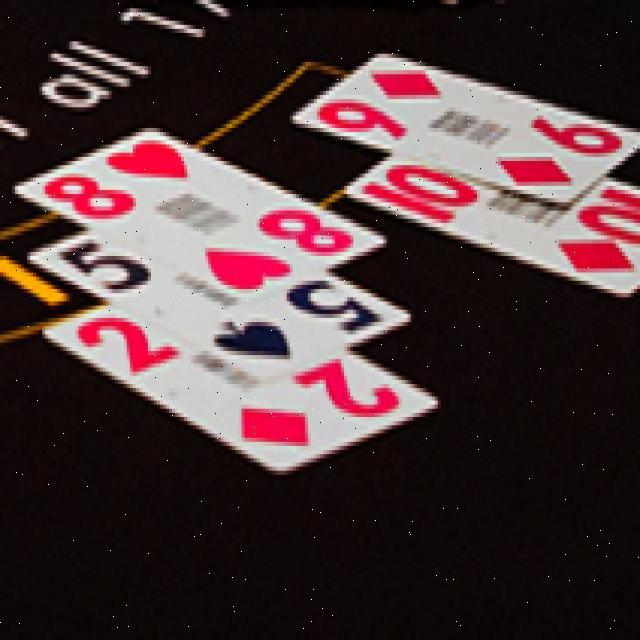Card-10: (345, 154, 640, 293)
Card-2: (42, 303, 437, 474)
Card-5: (29, 229, 412, 375)
Card-8: (14, 125, 387, 300)
Card-9: (291, 51, 640, 204)
